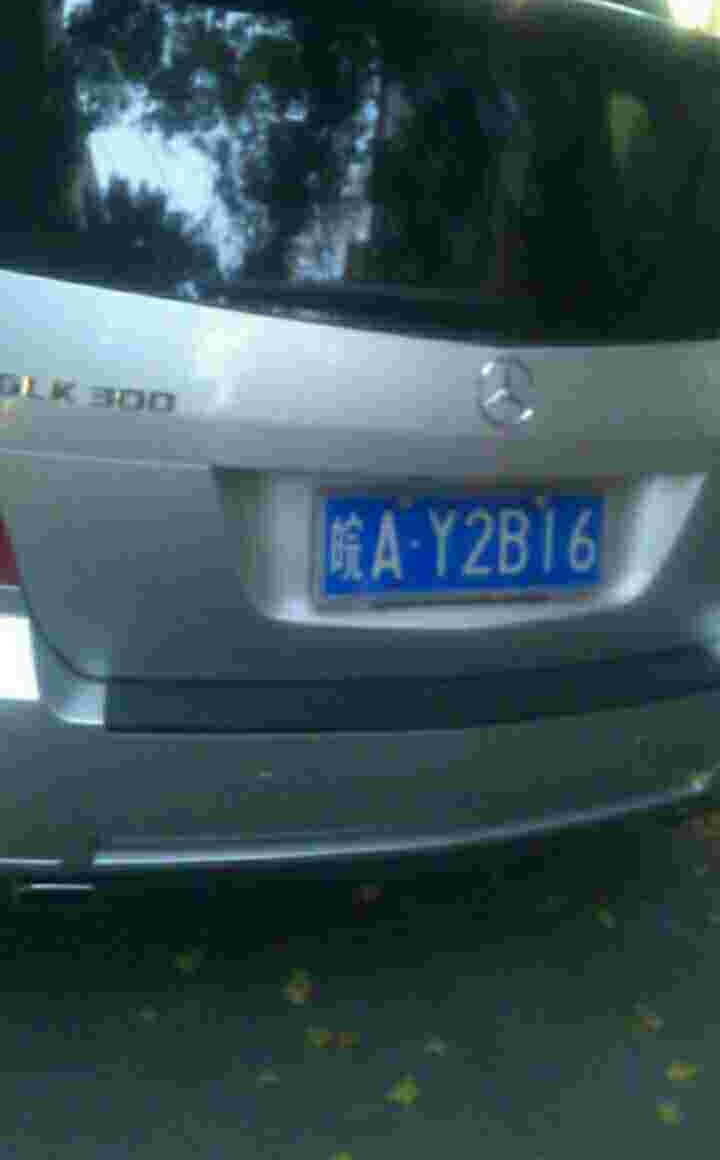license_plate: (322, 501, 629, 607)
